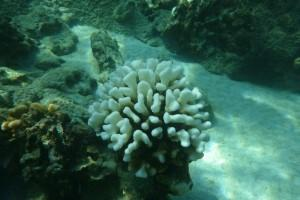bleached_corals: (73, 38, 244, 200)
